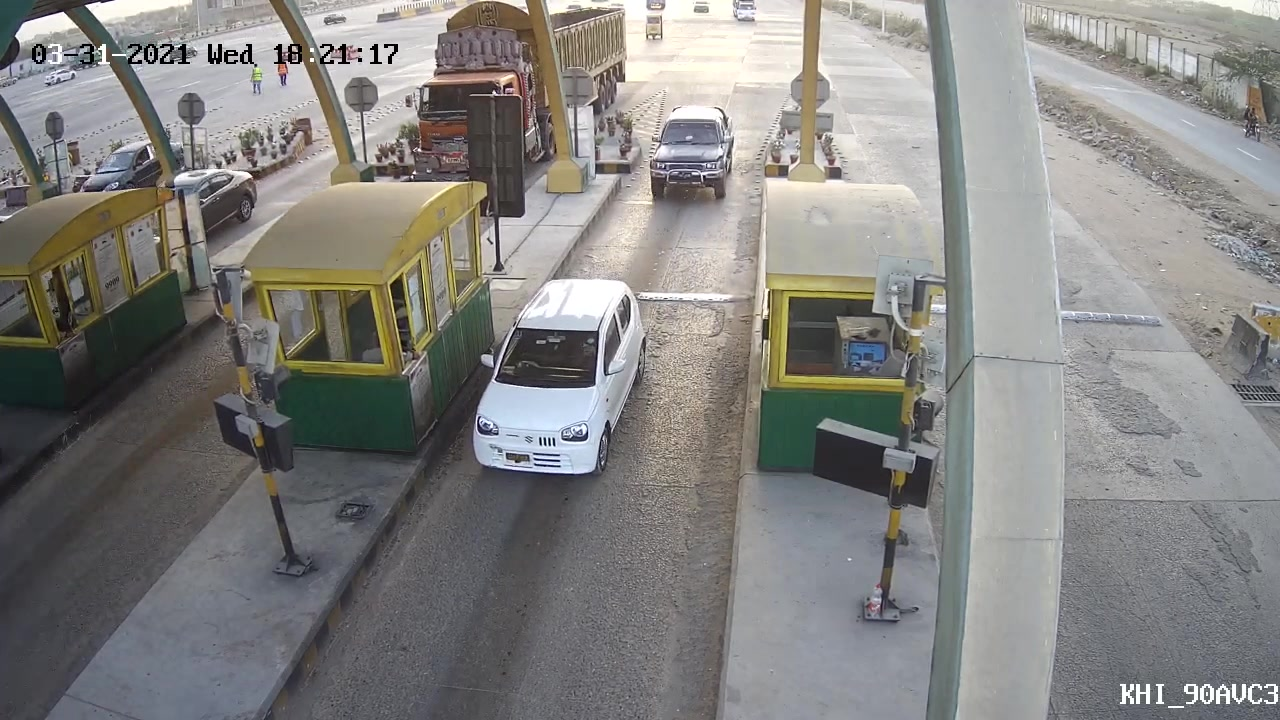F1: (465, 275, 659, 482), (644, 102, 739, 206)
